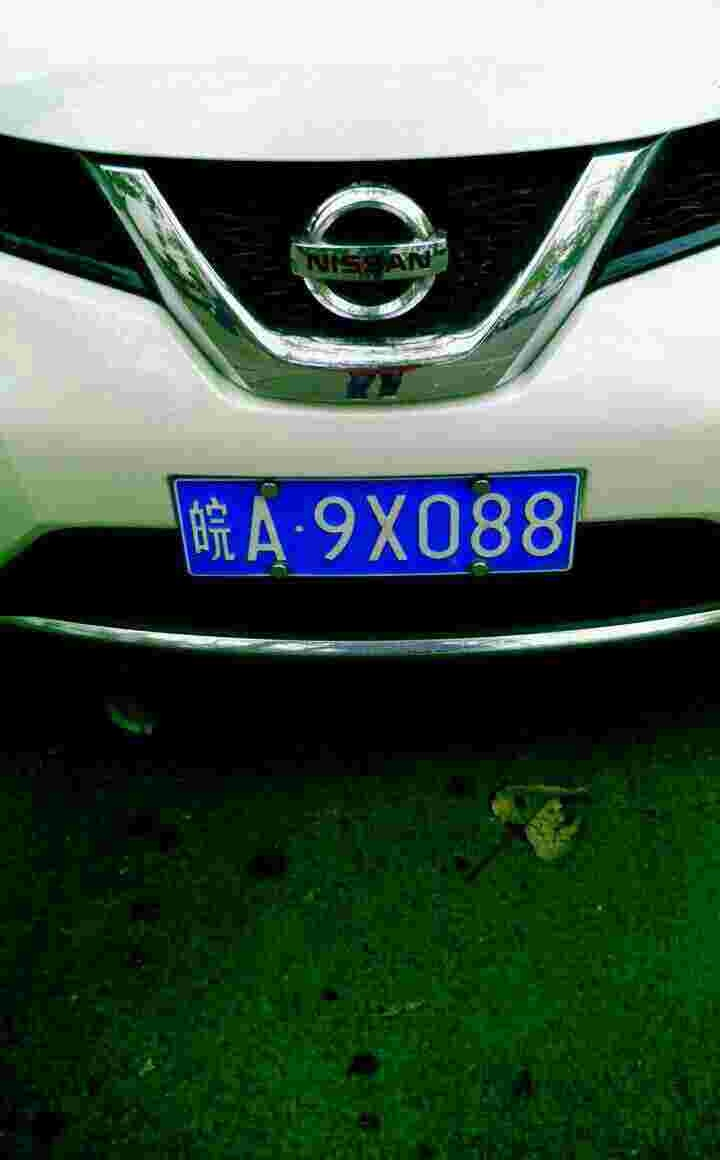license_plate: (178, 461, 583, 590)
